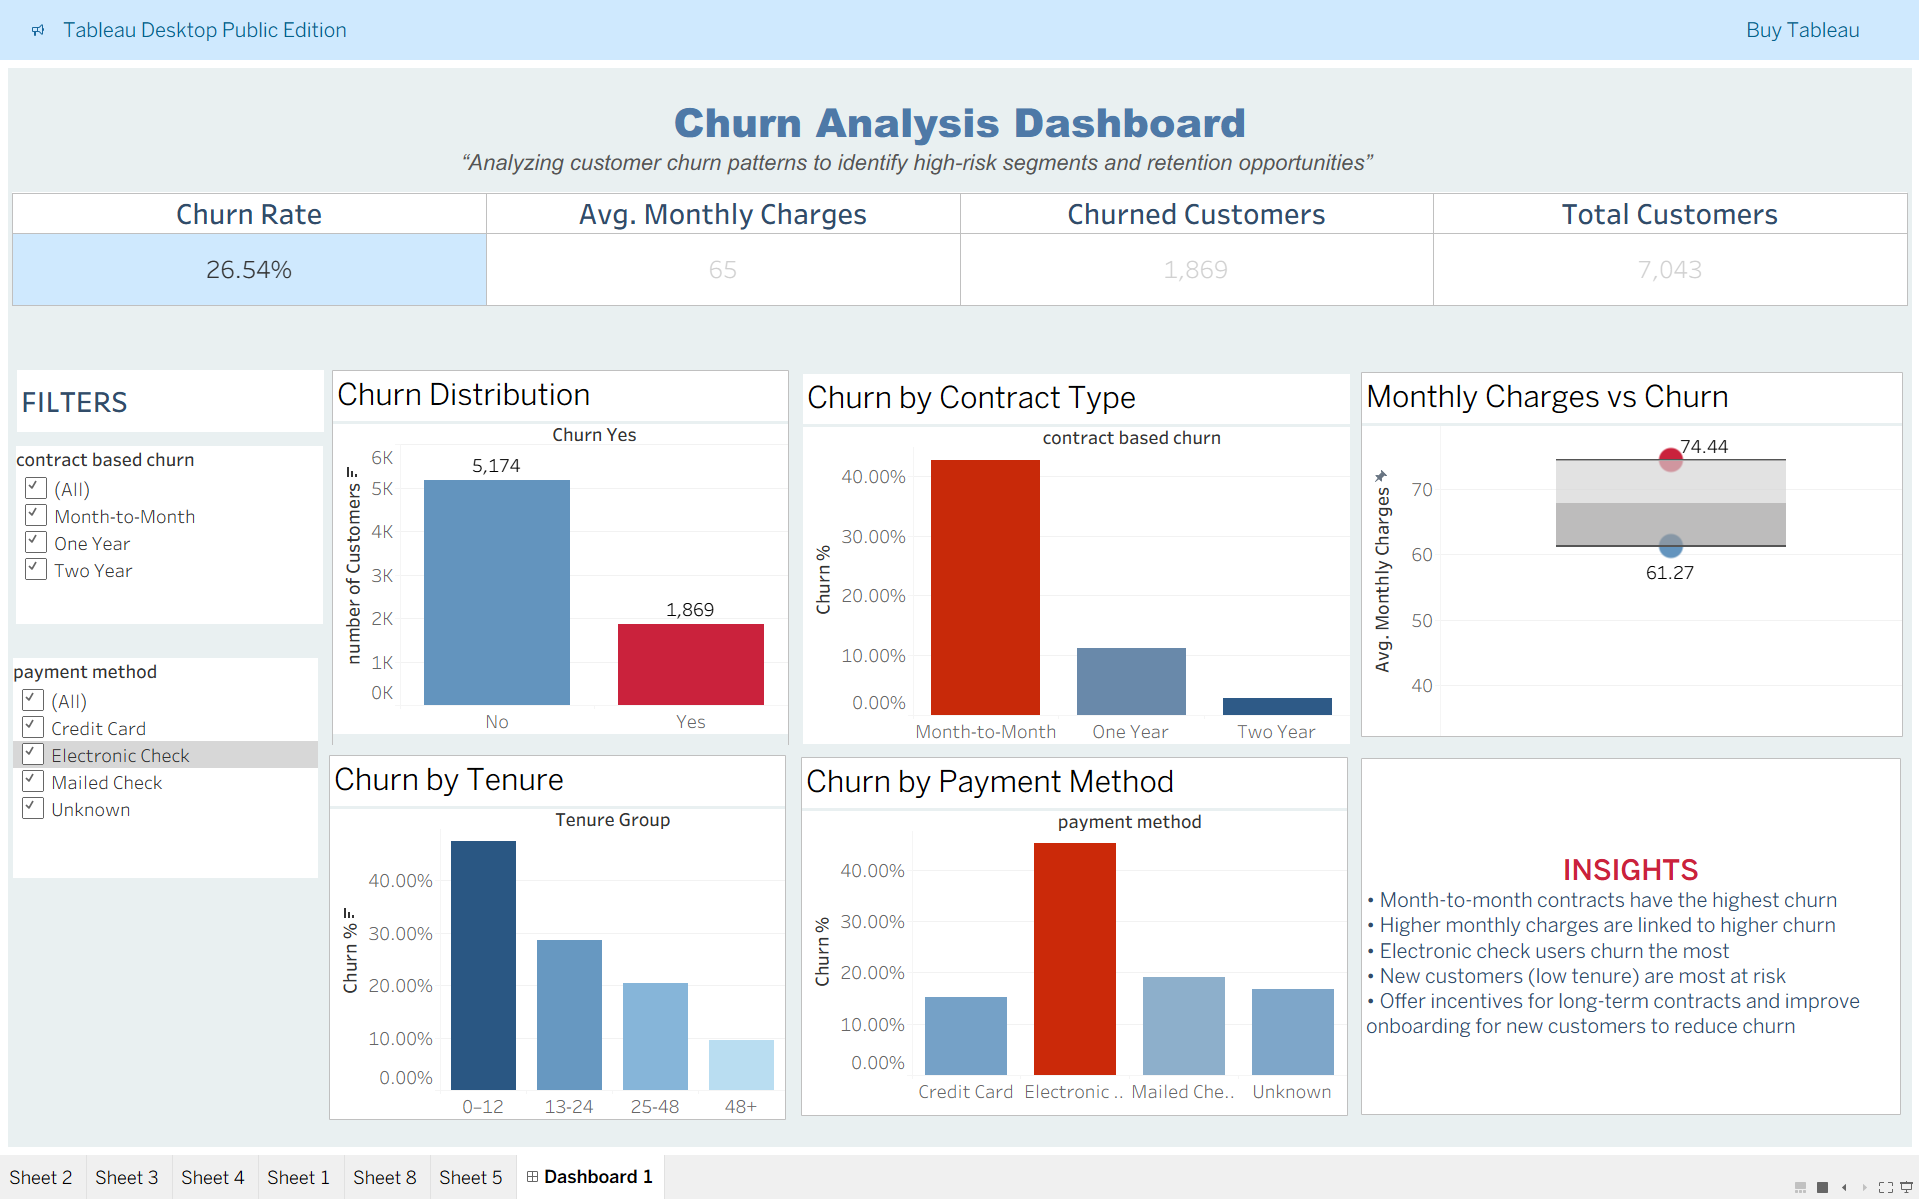

What the dashboard file says about the page in this screenshot:
{"tool":"tableau","page":{"name":"Dashboard 1","canvas":[1000,1000],"units":"permille","ordinal":0},"visuals":[{"type":"title","box":[5,9.2,990,112]},{"type":"text","box":[238.2,79.7,596,40.4]},{"type":"worksheet","title":"Sheet 8","mark":"Automatic","box":[5,121.2,990,157.1]},{"type":"text","box":[8.7,282.9,160.2,56.6]},{"type":"worksheet","title":"Sheet 1","mark":"Automatic","rows":["Calculation1"],"cols":["Churn_Yes"],"box":[172.7,282.9,238.2,343]},{"type":"worksheet","title":"Sheet 3","mark":"Circle","rows":["MonthlyCharges"],"box":[708.9,285.2,282.4,333.7]},{"type":"worksheet","title":"Sheet 5","mark":"Automatic","rows":["Calculation_0030016124039169"],"cols":["Calculation_2057790094114821"],"box":[418.3,286.4,284.9,338.3]},{"type":"filter","title":"Sheet 1","param":"[federated.1ds5ttx00p6esn15t9vqg0ee89j1].[none:Calculation_2057790094114821:nk]","box":[8.1,352.2,160.2,162.8]},{"type":"filter","title":"Sheet 1","param":"[federated.1ds5ttx00p6esn15t9vqg0ee89j1].[none:Calculation_2057790105882630:nk]","box":[6.9,546.2,159,200.9]},{"type":"worksheet","title":"Sheet 2","mark":"Automatic","rows":["Calculation_0030016124039169"],"cols":["Tenure_Group"],"box":[171.5,635.1,238.2,333.7]},{"type":"worksheet","title":"Sheet 4","mark":"Automatic","rows":["Calculation_0030016124039169"],"cols":["Calculation_2057790105882630"],"box":[417.1,636.3,284.9,327.9]},{"type":"text","box":[708.9,637.4,281.2,325.6]}]}

Visuals, with their boxes on the dashboard's canvas, which has no fixed pixel size, in thousandths of its width and height (x1, y1, x2, y2). These are canvas units, not pixel positions in the 1919x1199 screenshot, which may show the page scaled, cropped or inside an application window:
title: [5, 9, 995, 121]
text: [238, 80, 834, 120]
"Sheet 8" worksheet: [5, 121, 995, 278]
text: [9, 283, 169, 340]
"Sheet 1" worksheet: [173, 283, 411, 626]
"Sheet 3" worksheet (Circle marks): [709, 285, 991, 619]
"Sheet 5" worksheet: [418, 286, 703, 625]
"Sheet 1" filter: [8, 352, 168, 515]
"Sheet 1" filter: [7, 546, 166, 747]
"Sheet 2" worksheet: [172, 635, 410, 969]
"Sheet 4" worksheet: [417, 636, 702, 964]
text: [709, 637, 990, 963]
